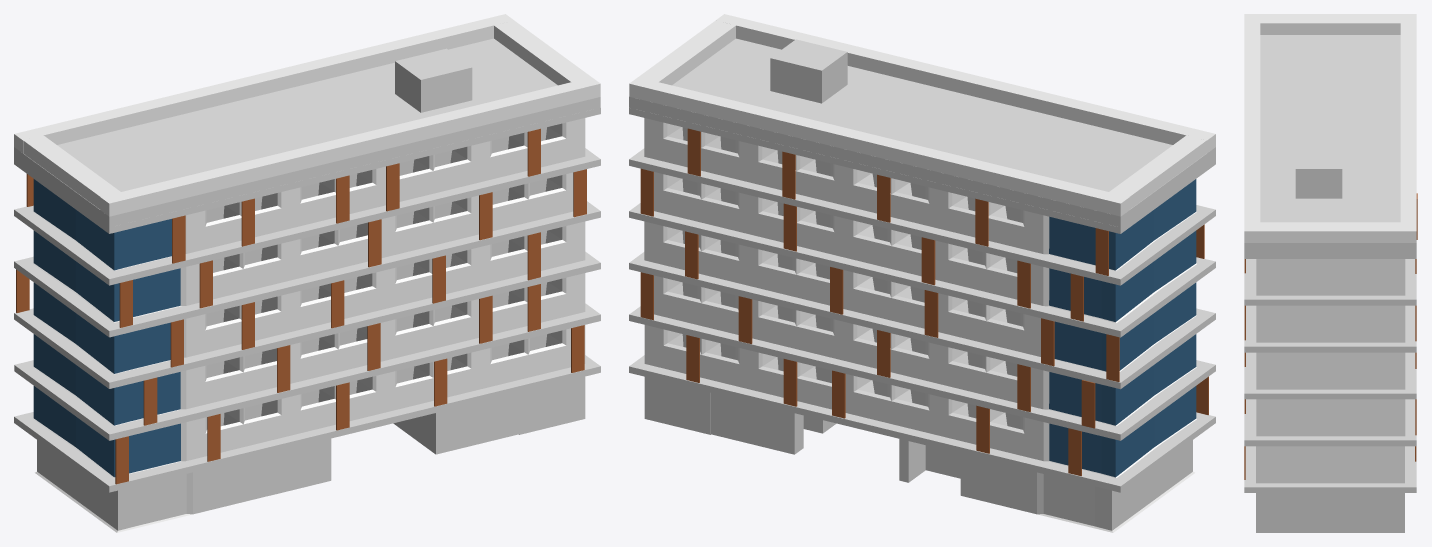
Rendered from ZhengDeWanQuanShiHuPanYiDong.fbx.
3 renders of one model, left to right at view 1: azimuth 30°, elevation 25°; view 2: azimuth 150°, elevation 25°; view 3: azimuth 270°, elevation 25°, orthographic. The views are drawn at different scales.
Visible parts, largest first — view 1: 屋顶.002, 楼层模板主体.006, 楼层模板主体.002, 楼层模板主体.003, 楼层模板主体.004, 楼层模板主体.005, 屋顶后.002, 屋顶前.002, 模板一楼右主.001, 外延上.002, 外延上.006, 外延上.003 (+10 smaller); view 2: 屋顶.002, 楼层模板主体.006, 楼层模板主体.003, 楼层模板主体.002, 楼层模板主体.005, 楼层模板主体.004, 屋顶前.002, 屋顶后.002, 模板一楼右主.001, 外延上.007, 外延上.006, 外延上.003 (+15 smaller); view 3: 屋顶.002, 楼层模板主体.003, 楼层模板主体.004, 楼层模板主体.006, 楼层模板主体.002, 楼层模板主体.005, 模板一楼左主.001, 屋顶前.002, 屋顶后.002, 屋顶右.002, 屋顶左.001, 外延上.003 (+7 smaller).
Boxes of the visible parts, bbox=[...] form: 屋顶.002: bbox=[14, 38, 600, 227]; 楼层模板主体.006: bbox=[33, 172, 573, 322]; 楼层模板主体.002: bbox=[33, 325, 585, 477]; 楼层模板主体.003: bbox=[33, 273, 585, 425]; 楼层模板主体.004: bbox=[33, 221, 585, 374]; 楼层模板主体.005: bbox=[33, 118, 585, 270]; 屋顶后.002: bbox=[100, 77, 600, 216]; 屋顶前.002: bbox=[14, 14, 513, 152]; 模板一楼右主.001: bbox=[35, 440, 269, 532]; 外延上.002: bbox=[14, 303, 600, 440]; 外延上.006: bbox=[14, 148, 600, 285]; 外延上.003: bbox=[14, 251, 600, 388]; 屋顶.002: bbox=[629, 38, 1215, 227]; 楼层模板主体.006: bbox=[654, 172, 1196, 323]; 楼层模板主体.003: bbox=[654, 275, 1196, 426]; 楼层模板主体.002: bbox=[644, 325, 1196, 478]; 楼层模板主体.005: bbox=[644, 118, 1196, 270]; 楼层模板主体.004: bbox=[644, 221, 1196, 371]; 屋顶前.002: bbox=[629, 77, 1129, 216]; 屋顶后.002: bbox=[716, 14, 1215, 153]; 模板一楼右主.001: bbox=[960, 440, 1194, 532]; 外延上.007: bbox=[629, 355, 1215, 492]; 外延上.006: bbox=[629, 148, 1215, 285]; 外延上.003: bbox=[629, 252, 1215, 389]; 屋顶.002: bbox=[1244, 35, 1416, 252]; 楼层模板主体.003: bbox=[1256, 399, 1405, 436]; 楼层模板主体.004: bbox=[1256, 352, 1405, 389]; 楼层模板主体.006: bbox=[1256, 305, 1405, 342]; 楼层模板主体.002: bbox=[1256, 446, 1404, 483]; 楼层模板主体.005: bbox=[1256, 259, 1405, 295]; 模板一楼左主.001: bbox=[1256, 493, 1404, 532]; 屋顶前.002: bbox=[1400, 14, 1416, 242]; 屋顶后.002: bbox=[1244, 14, 1260, 242]; 屋顶右.002: bbox=[1260, 14, 1400, 34]; 屋顶左.001: bbox=[1260, 222, 1400, 242]; 外延上.003: bbox=[1244, 352, 1416, 399].
Bounding box in the file's own units: 2787 × 1936 × 940.
